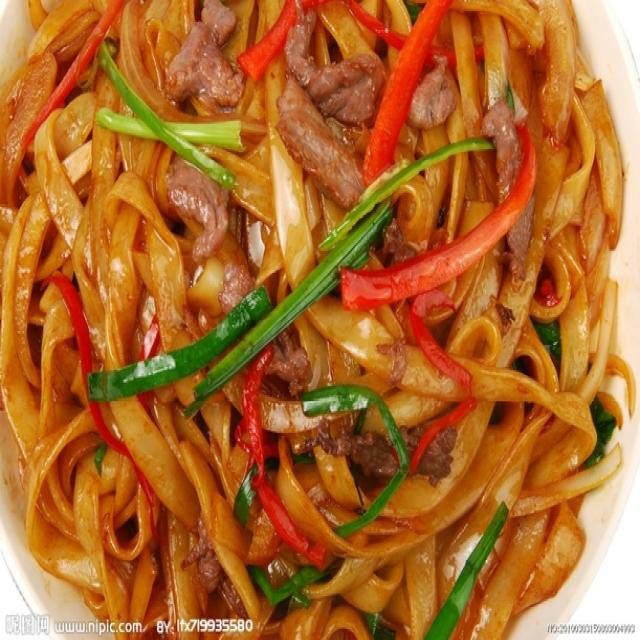面条主食: (7, 9, 619, 615)
